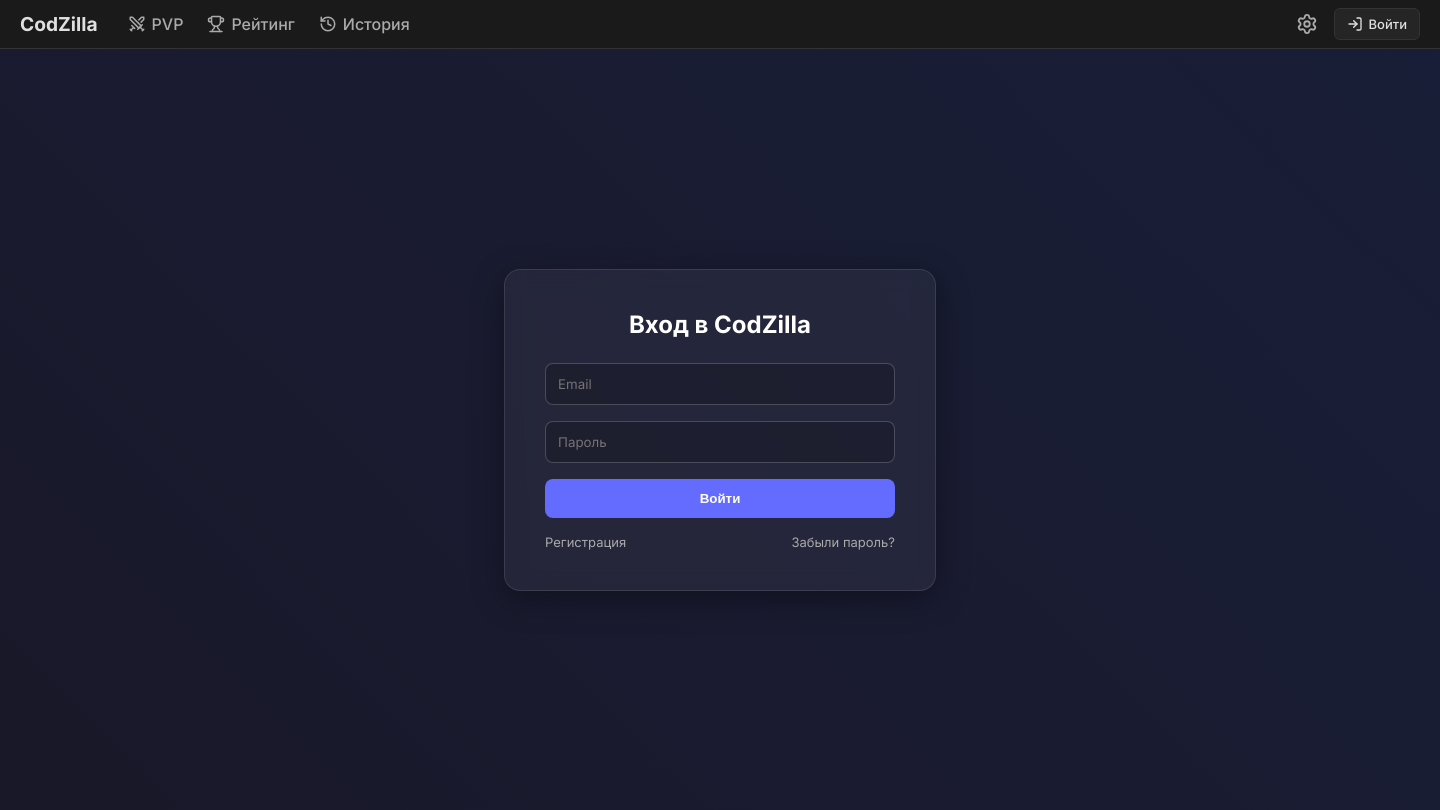
Test: LoginPage › регистрация вызывает API, показывает alert и возвращает на форму логина
Step 1. Click the text "Регистрация" → (586, 542), box [545,534,626,550]
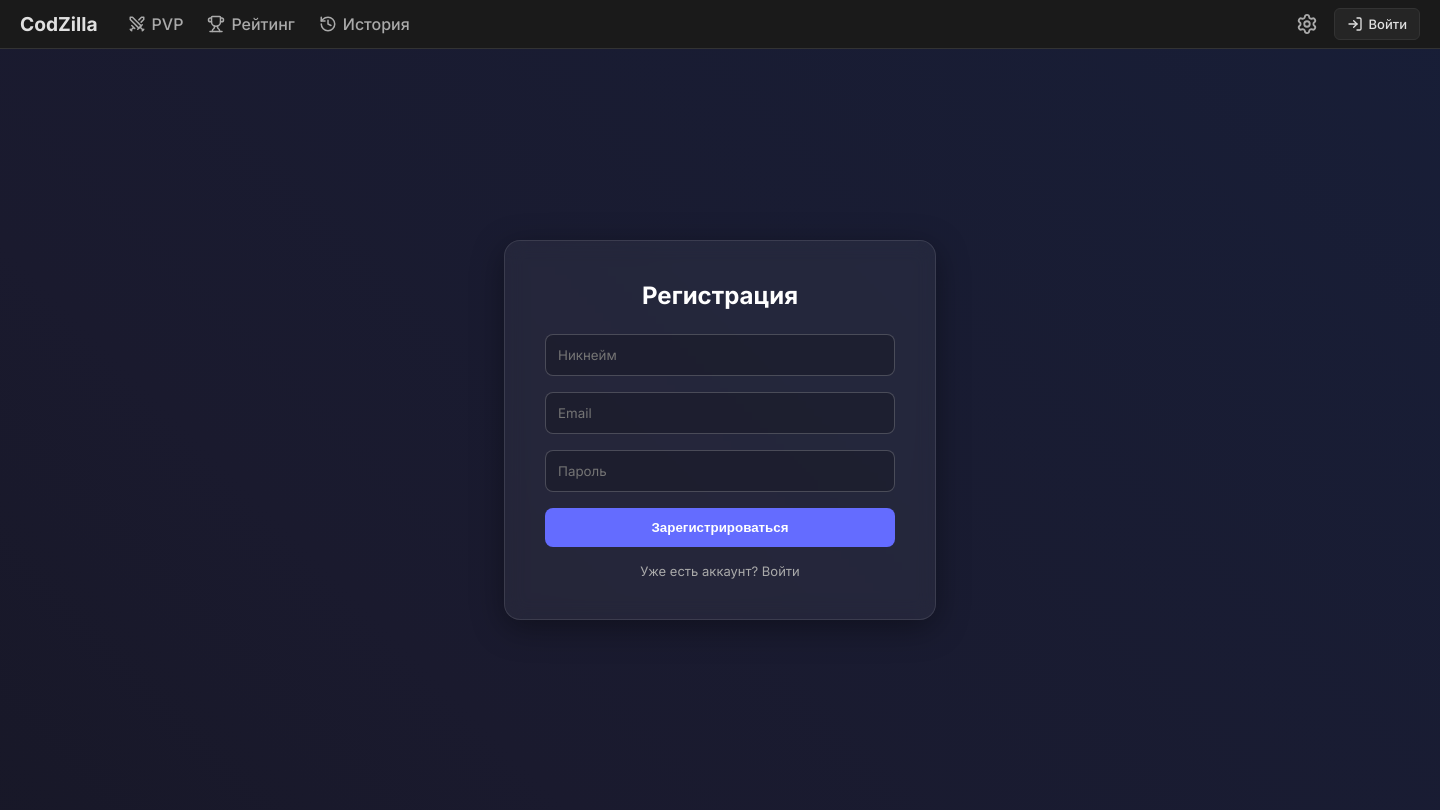
Step 2. Type "Hero" into the field with placeholder "Никнейм" → (720, 354), box [545,334,895,376]
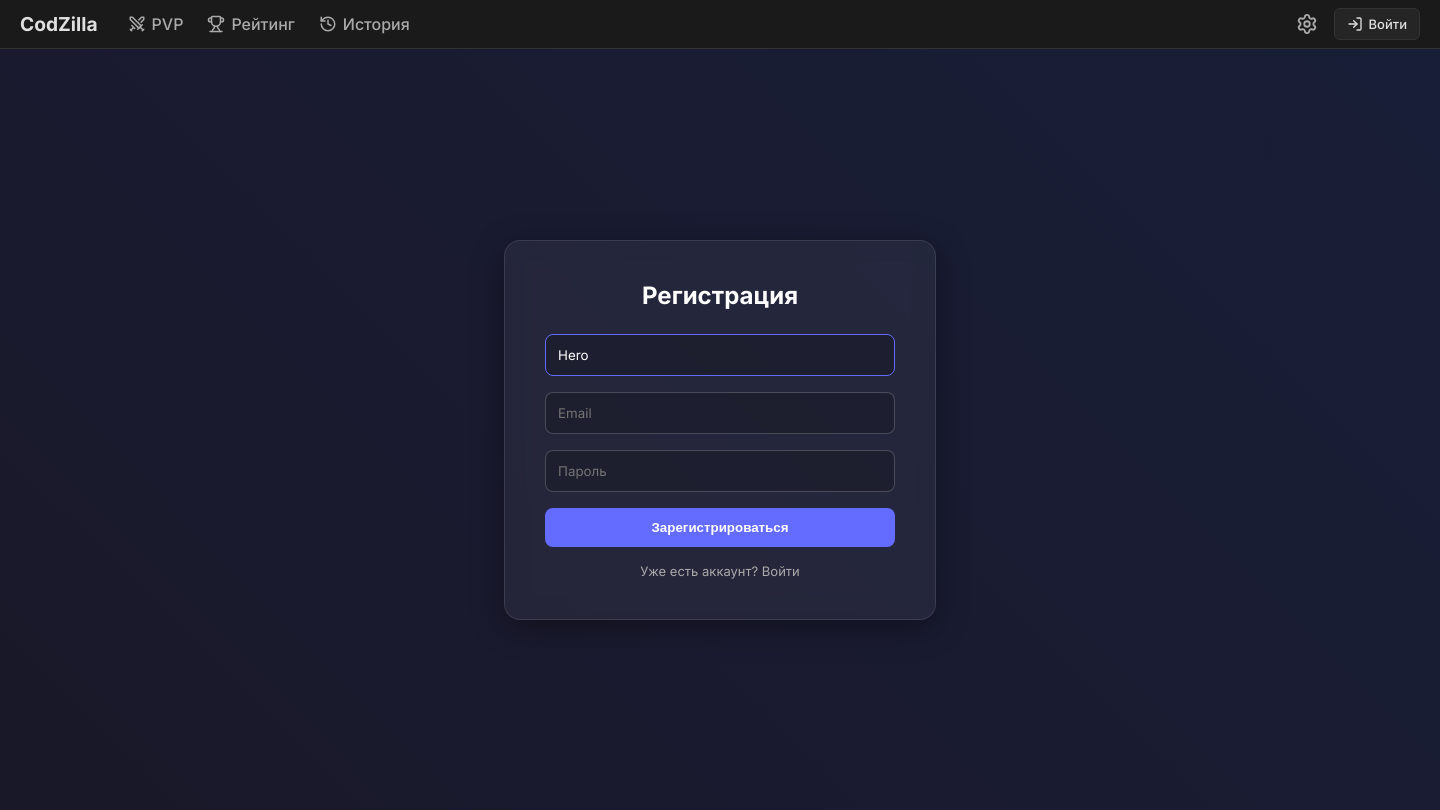
Step 3. Type "test@test.com" into the field with placeholder "Email" → (720, 412), box [545,392,895,434]
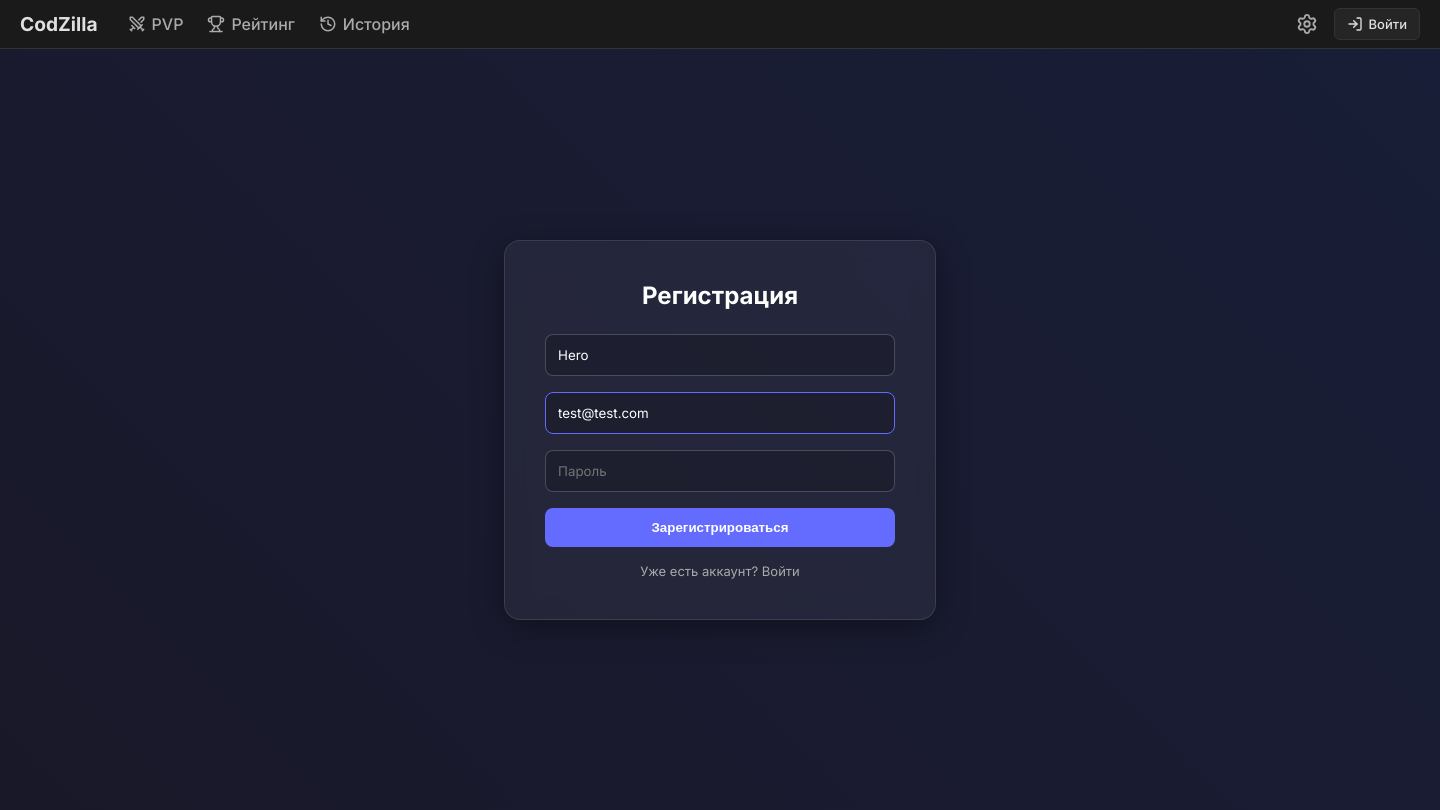
Step 4. Type "123456" into the password field with placeholder "Пароль" → (720, 470), box [545,450,895,492]
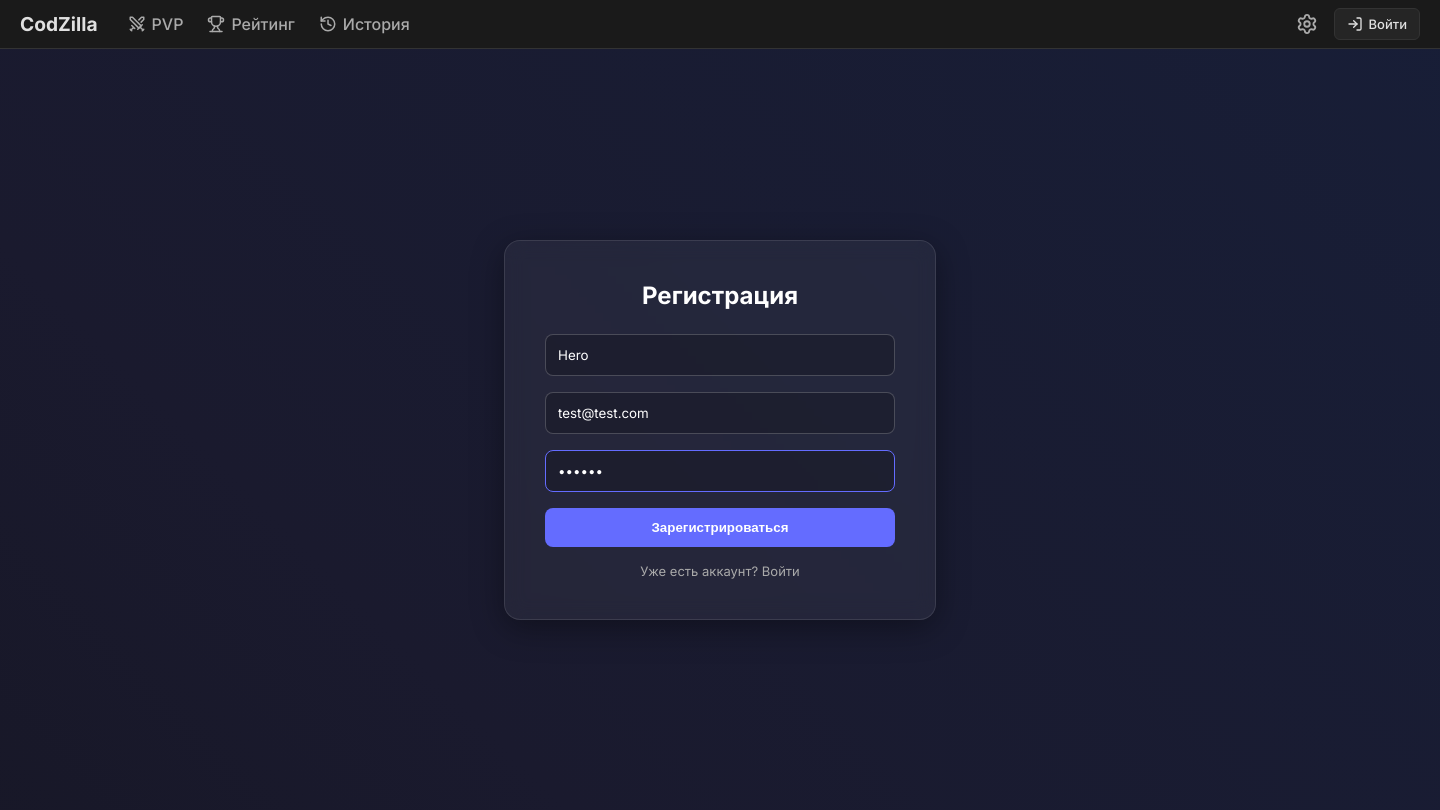
Step 5. Click the button "Зарегистрироваться" → (720, 527), box [545,508,895,546]
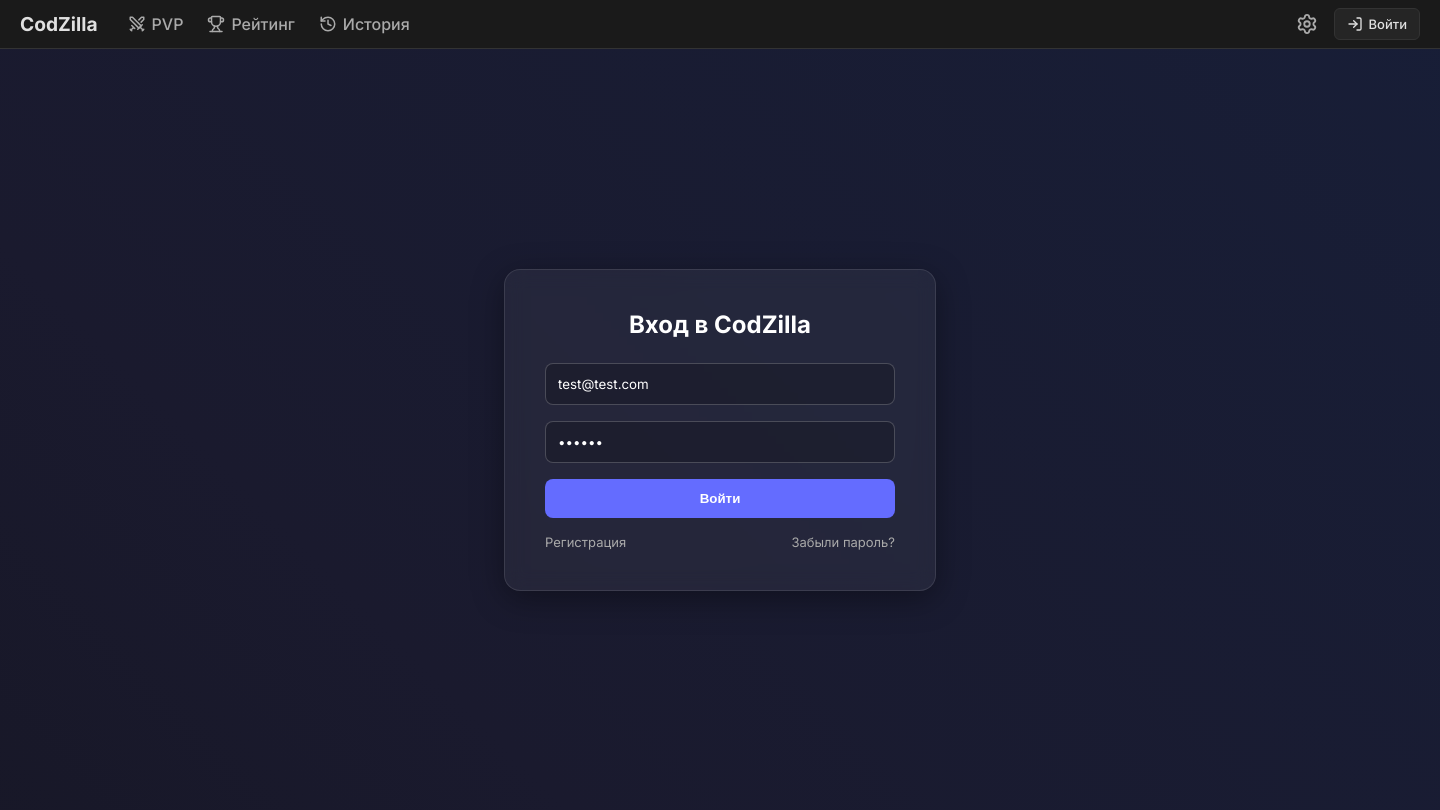
Expected: the heading "Вход в CodZilla" is shown, [629,310,811,338]
